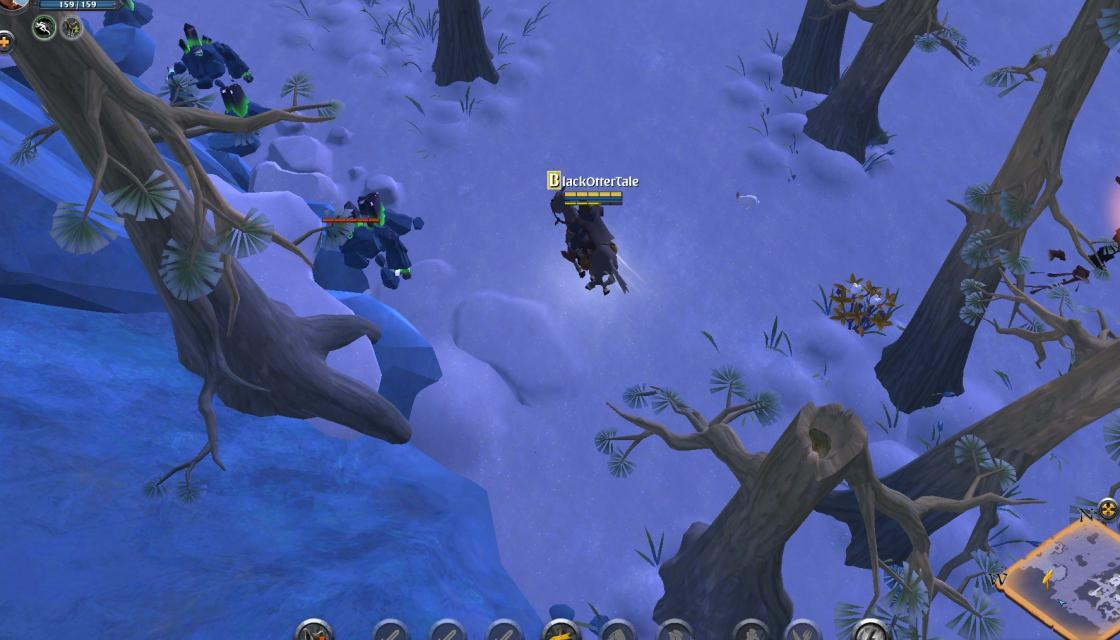tinore: (206, 80, 273, 136), (98, 0, 156, 32)
